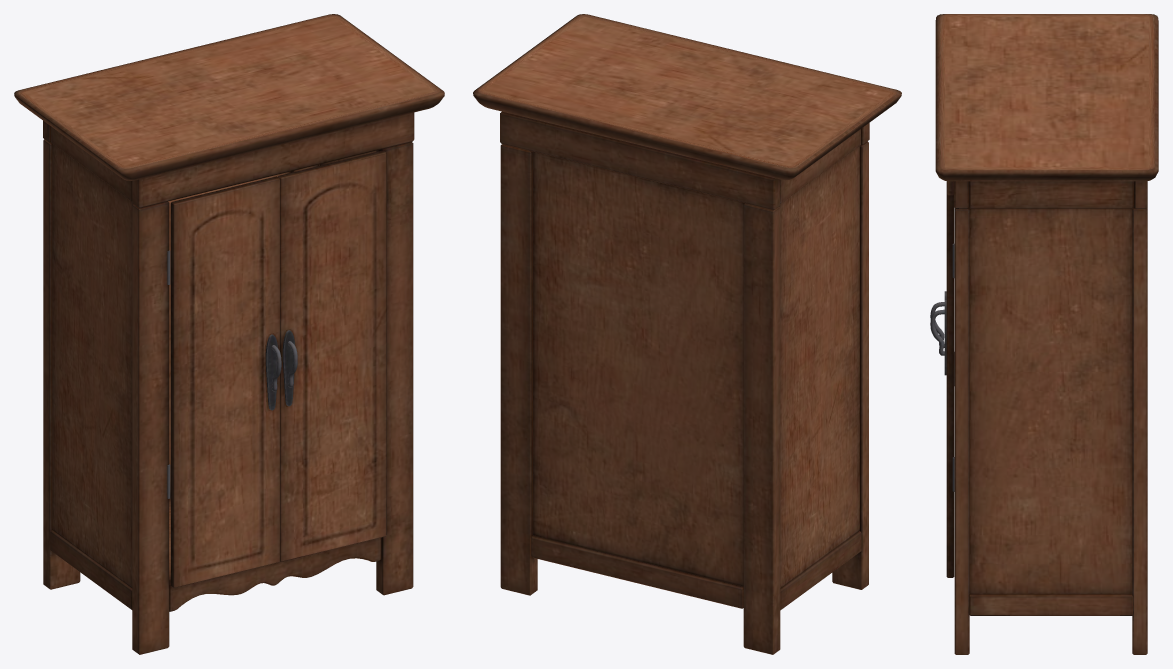
The model's file is wardrobe.glb.
3 views of the same model, side by side, from view 1: azimuth 30°, elevation 25°; view 2: azimuth 150°, elevation 25°; view 3: azimuth 270°, elevation 25° (orthographic).
Parts seen in each view (by area): view 1: Cube__0; view 2: Cube__0; view 3: Cube__0.
Part boxes in pixels (x1,y1,x2,y2): Cube__0: (14, 14, 444, 654); Cube__0: (473, 14, 901, 654); Cube__0: (930, 14, 1158, 654).
Size of the model in its own units: 1.35 by 1.97 by 0.8203.
1 material, 1 textured.
